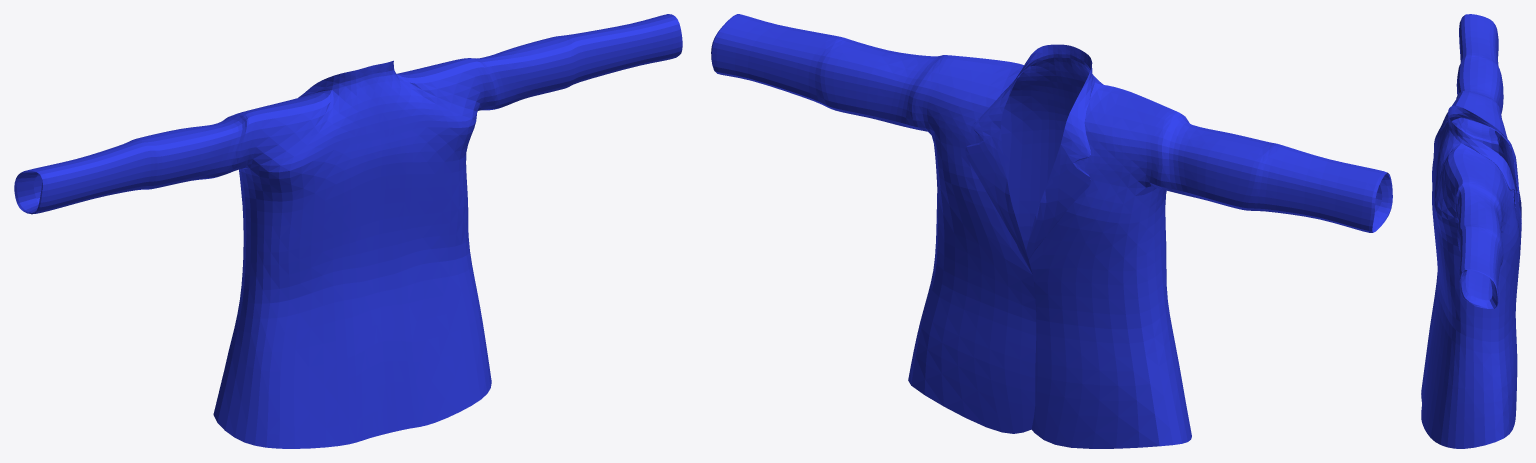
The model's file is bluejacket.fbx.
The picture shows the model from 3 angles, left to right: view 1: azimuth 30°, elevation 25°; view 2: azimuth 150°, elevation 25°; view 3: azimuth 270°, elevation 25°; orthographic projection. The views are drawn at different scales.
Visible parts, largest first — view 1: shirt; view 2: shirt; view 3: shirt.
Boxes of the visible parts, x1,y1,x2,y2 form: shirt: (14, 14, 682, 448); shirt: (711, 14, 1392, 448); shirt: (1421, 14, 1521, 448).
Bounding box in the file's own units: 59.59 × 31.26 × 9.73.
